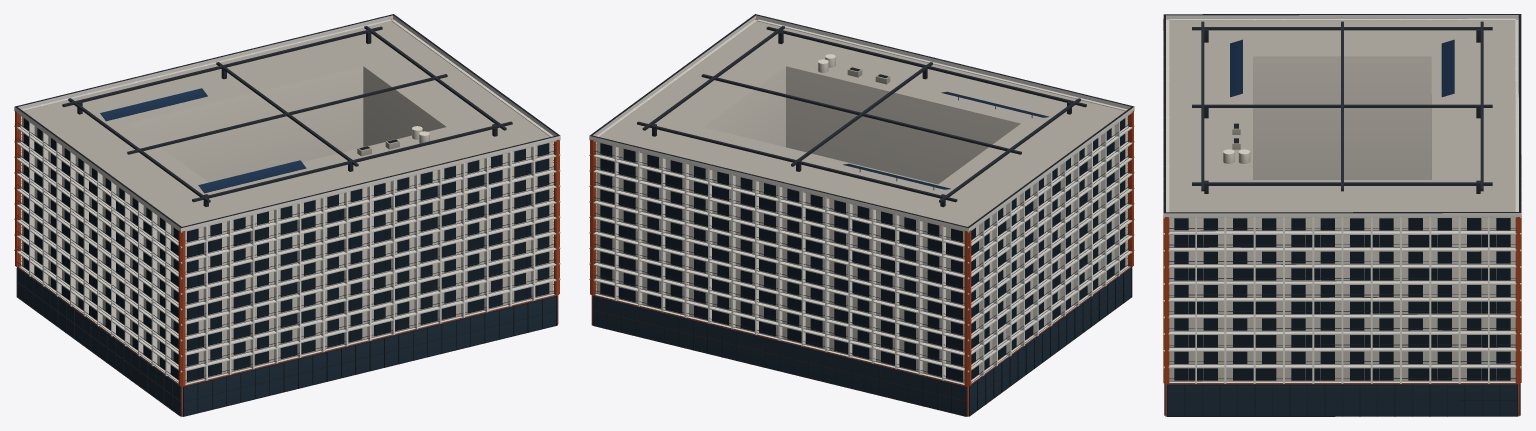
The model's file is lotus_hostel_provisional.glb.
The picture shows the model from 3 angles, left to right: view 1: azimuth 30°, elevation 25°; view 2: azimuth 150°, elevation 25°; view 3: azimuth 270°, elevation 25°; orthographic projection. The views are drawn at different scales.
Parts seen in each view (by area): view 1: LOD0_High_StuccoWhite, LOD0_High_StuccoWarmTrim, LOD0_High_RoofSlabConcrete, LOD0_High_RecessedCavityGlass, LOD0_High_DarkAnodizedSteel, LOD0_High_CurtainGlass, LOD0_High_CharcoalPrecast, LOD1_Medium_RecessedCavityGlass, LOD0_High_TerracottaMetallic, LOD0_High_SolarPV, LOD0_High_TerracottaBrick; view 2: LOD0_High_StuccoWhite, LOD0_High_StuccoWarmTrim, LOD0_High_RoofSlabConcrete, LOD0_High_RecessedCavityGlass, LOD0_High_DarkAnodizedSteel, LOD0_High_CurtainGlass, LOD0_High_CharcoalPrecast, LOD1_Medium_RecessedCavityGlass, LOD0_High_TerracottaMetallic, LOD0_High_TerracottaBrick, LOD0_High_SolarPV; view 3: LOD0_High_StuccoWarmTrim, LOD0_High_RoofSlabConcrete, LOD0_High_RecessedCavityGlass, LOD0_High_StuccoWhite, LOD0_High_DarkAnodizedSteel, LOD0_High_CurtainGlass, LOD0_High_CharcoalPrecast, LOD1_Medium_RecessedCavityGlass, LOD0_High_TerracottaMetallic, LOD0_High_SolarPV, LOD0_High_TerracottaBrick.
Boxes of the visible parts, x1=… form: LOD0_High_StuccoWhite: x1=14, y1=15, x2=560, y2=380; LOD0_High_StuccoWarmTrim: x1=19, y1=66, x2=554, y2=384; LOD0_High_RoofSlabConcrete: x1=24, y1=21, x2=549, y2=226; LOD0_High_RecessedCavityGlass: x1=23, y1=118, x2=549, y2=381; LOD0_High_DarkAnodizedSteel: x1=15, y1=14, x2=559, y2=416; LOD0_High_CurtainGlass: x1=18, y1=269, x2=556, y2=415; LOD0_High_CharcoalPrecast: x1=62, y1=26, x2=512, y2=206; LOD1_Medium_RecessedCavityGlass: x1=34, y1=141, x2=537, y2=378; LOD0_High_TerracottaMetallic: x1=15, y1=19, x2=559, y2=386; LOD0_High_SolarPV: x1=100, y1=88, x2=306, y2=193; LOD0_High_TerracottaBrick: x1=17, y1=267, x2=557, y2=416; LOD0_High_StuccoWhite: x1=589, y1=15, x2=1134, y2=380; LOD0_High_StuccoWarmTrim: x1=595, y1=54, x2=1129, y2=384; LOD0_High_RoofSlabConcrete: x1=600, y1=21, x2=1125, y2=226; LOD0_High_RecessedCavityGlass: x1=600, y1=118, x2=1125, y2=381; LOD0_High_DarkAnodizedSteel: x1=589, y1=14, x2=1134, y2=416; LOD0_High_CurtainGlass: x1=593, y1=269, x2=1131, y2=415; LOD0_High_CharcoalPrecast: x1=637, y1=26, x2=1086, y2=207; LOD1_Medium_RecessedCavityGlass: x1=612, y1=141, x2=1114, y2=378; LOD0_High_TerracottaMetallic: x1=590, y1=19, x2=1133, y2=386; LOD0_High_TerracottaBrick: x1=591, y1=266, x2=1131, y2=416; LOD0_High_SolarPV: x1=843, y1=91, x2=1048, y2=189; LOD0_High_StuccoWarmTrim: x1=1169, y1=56, x2=1515, y2=382; LOD0_High_RoofSlabConcrete: x1=1169, y1=21, x2=1515, y2=212; LOD0_High_RecessedCavityGlass: x1=1174, y1=218, x2=1510, y2=380; LOD0_High_StuccoWhite: x1=1163, y1=15, x2=1521, y2=383; LOD0_High_DarkAnodizedSteel: x1=1163, y1=14, x2=1521, y2=416; LOD0_High_CurtainGlass: x1=1167, y1=385, x2=1517, y2=415; LOD0_High_CharcoalPrecast: x1=1192, y1=21, x2=1492, y2=193; LOD1_Medium_RecessedCavityGlass: x1=1189, y1=234, x2=1495, y2=380; LOD0_High_TerracottaMetallic: x1=1163, y1=19, x2=1521, y2=383; LOD0_High_SolarPV: x1=1230, y1=39, x2=1454, y2=97; LOD0_High_TerracottaBrick: x1=1165, y1=383, x2=1519, y2=416.
Bounding box in the file's own units: 85.42 × 42.41 × 64.83.
